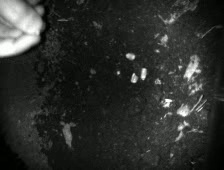corn: (138, 65, 148, 82), (128, 71, 140, 85), (123, 51, 137, 61), (114, 68, 121, 76)
